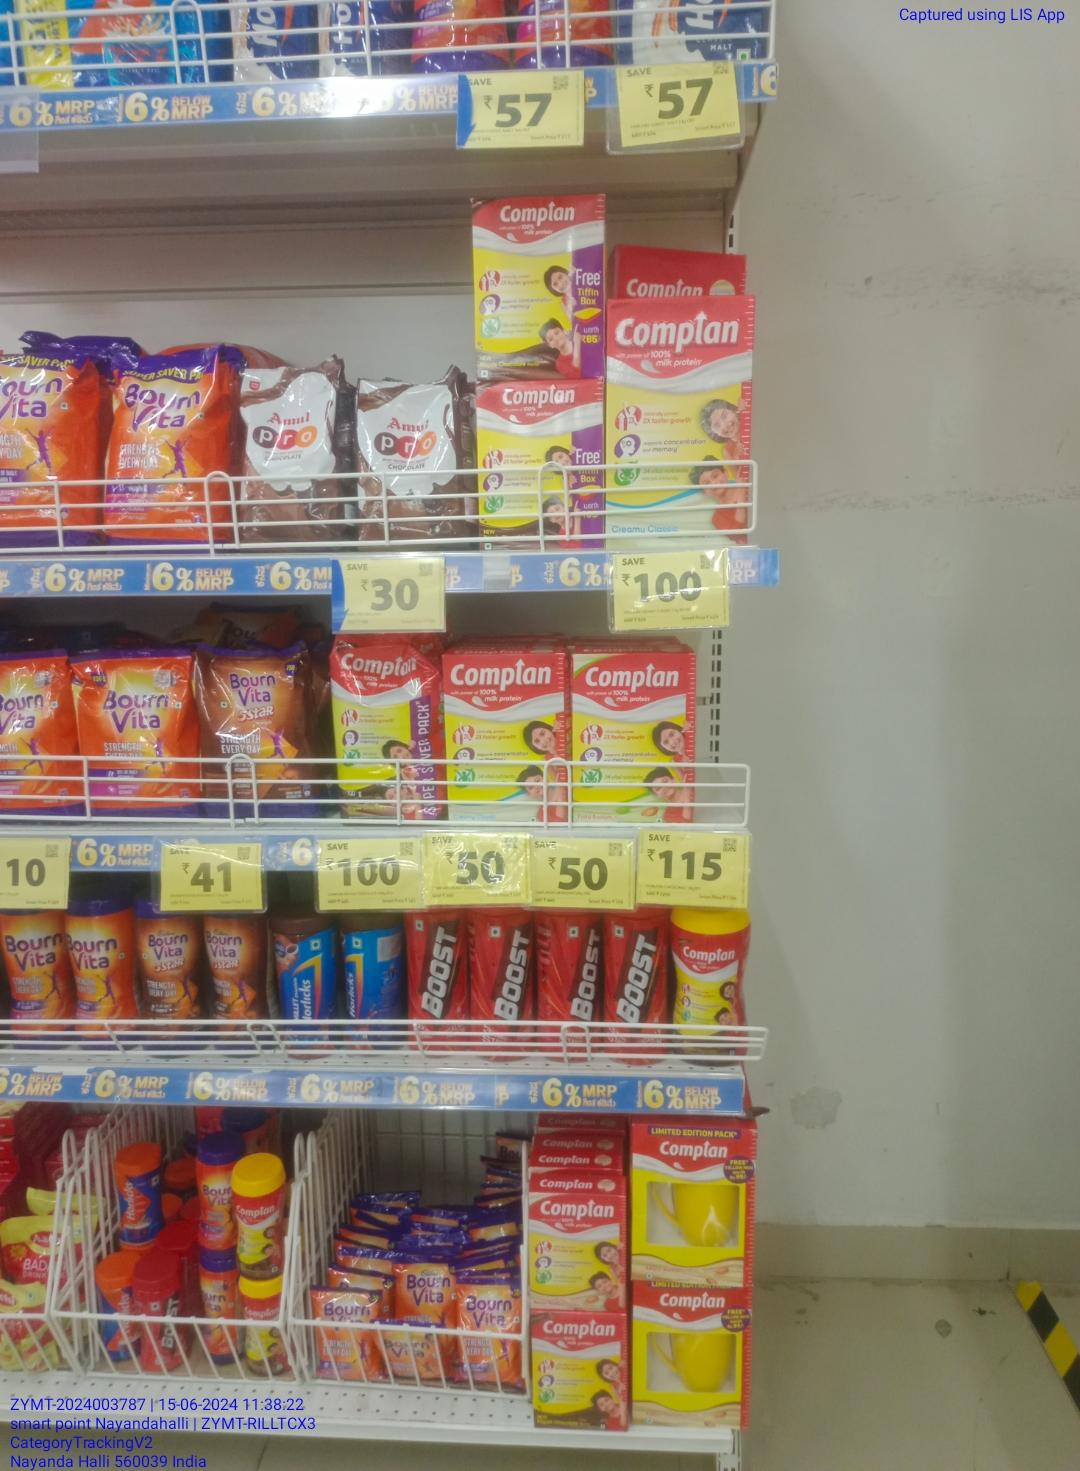BOURN_VITA_1_KG_POUCH: (108, 347, 223, 547), (0, 349, 90, 549)
BOURN_VITA_500_G_JAR: (1, 906, 72, 1054), (78, 895, 132, 1052)
BOURN_VITA_750_G_POUCH: (79, 652, 195, 821)
BOURN_VITA_75_G_POUCH: (459, 1277, 516, 1390), (311, 1286, 373, 1382)
BOURN_VITA_FIVE_STAR_MAGIC_500_G_JAR: (138, 907, 205, 1059), (211, 910, 274, 1058)
BOURN_VITA_FIVE_STAR_MAGIC_750_G_POUCH: (201, 650, 320, 821)
COMPLAN_CHOCOLATE_200_GMS_JAR: (235, 1167, 283, 1276)
COMPLAN_CHOCOLATE_500_GMS_JAR: (670, 908, 749, 1063)
COMPLAN_CHOCOLATE_500_GMS_PACK: (476, 199, 601, 377), (477, 388, 599, 547), (532, 1312, 627, 1430)
COMPLAN_CREAMY_CLASSIC_500_G_PACK: (444, 656, 565, 822)
COMPLAN_KESAR_BADAM_500_GMS_PACK: (531, 1193, 627, 1308)
COMPLAN_PISTA_BADAM_500_GMS_PACK: (574, 651, 696, 823)
COMPLAN_RC_POUCH_700_GMS_12: (330, 638, 437, 822)
HORLICK_CLASSIC_MALT_200_G_JAR: (116, 1150, 161, 1240)
